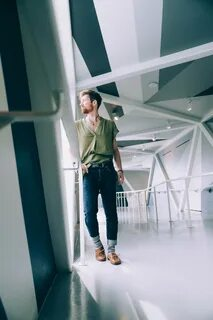awake: (74, 89, 125, 266)
